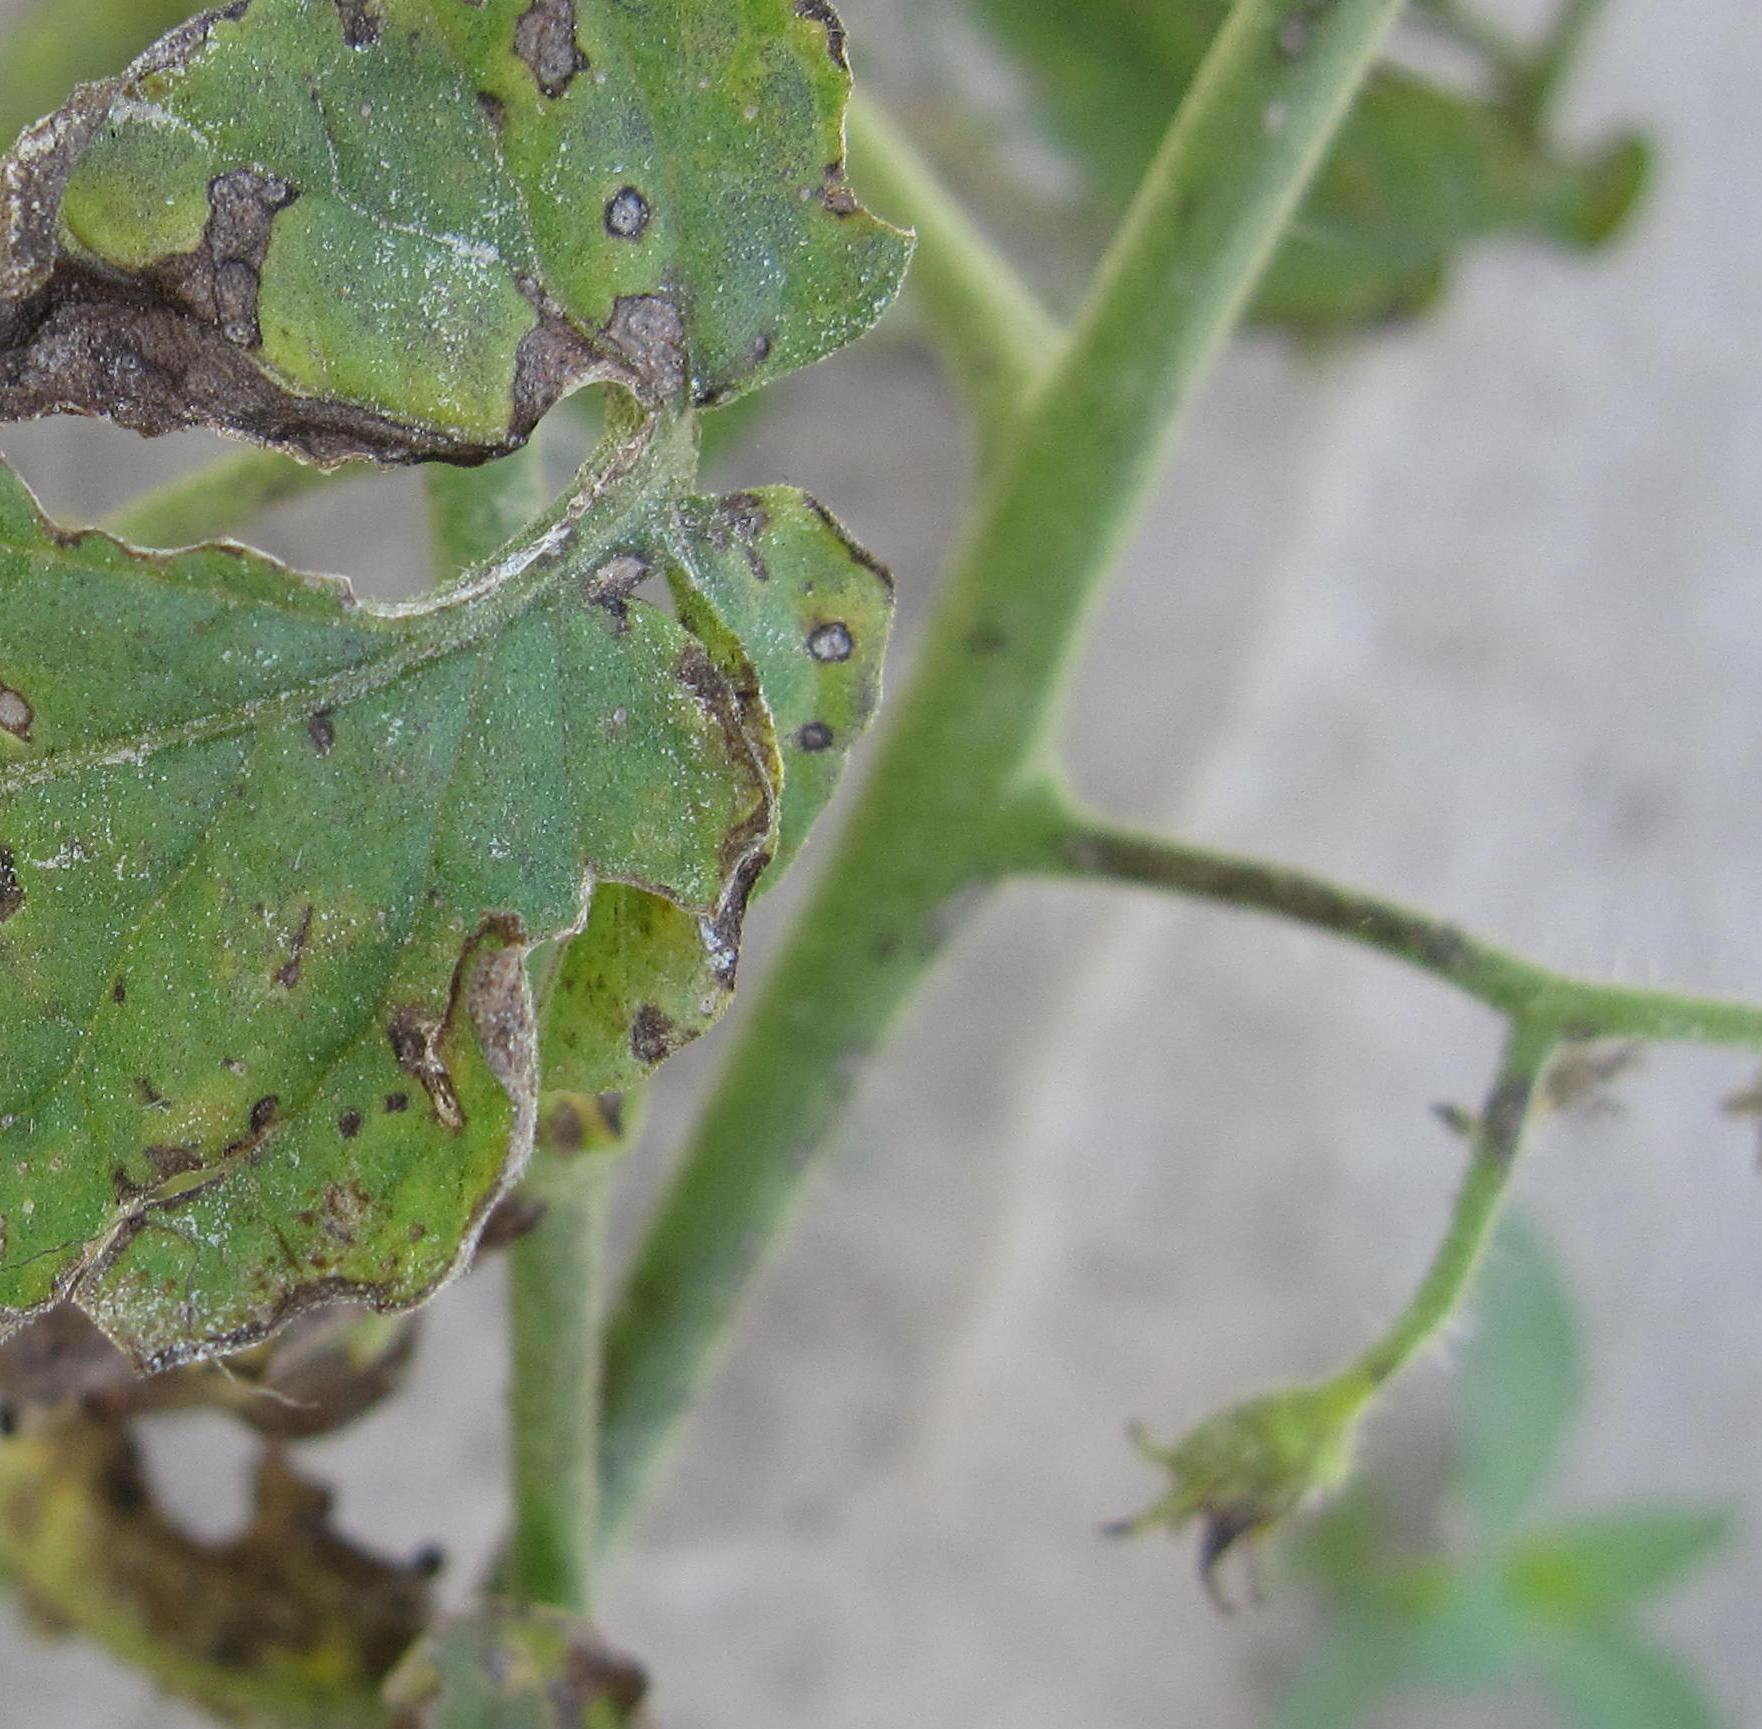Tomato leaf bacterial spot: (0, 0, 1058, 1501)
